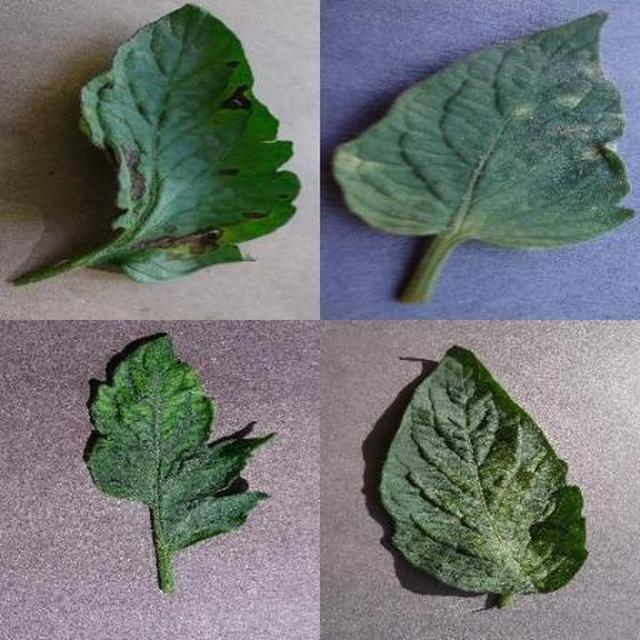Early Blight Leaf: (260, 188, 640, 640)
